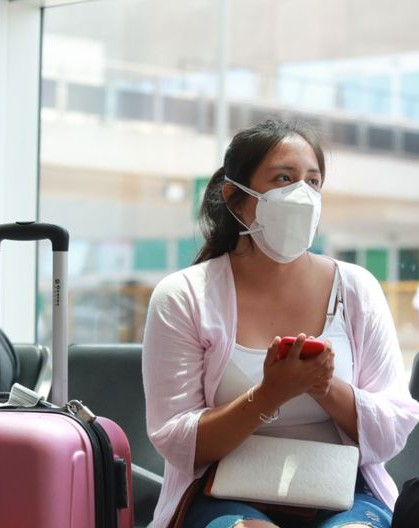with_mask: (230, 130, 328, 260)
